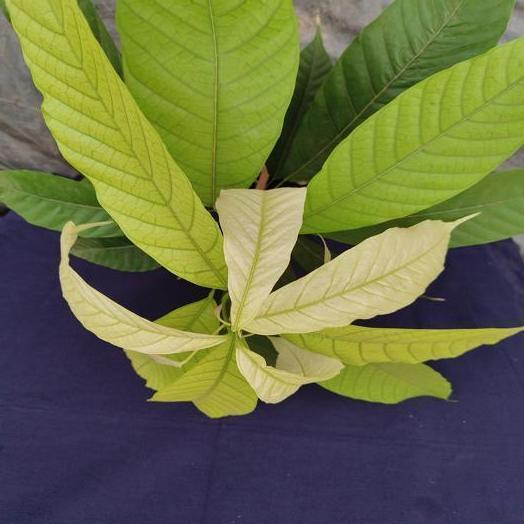Healthy Leaf: (277, 0, 514, 180), (328, 168, 523, 247), (268, 22, 331, 179), (0, 170, 110, 230), (88, 224, 124, 237)
Iron: (7, 0, 226, 288), (305, 38, 523, 232), (116, 0, 298, 206), (247, 217, 469, 334), (59, 222, 224, 354), (216, 189, 305, 330), (283, 325, 523, 365), (153, 335, 257, 417), (237, 337, 342, 402), (318, 364, 451, 403), (125, 348, 217, 391), (157, 296, 217, 332)
